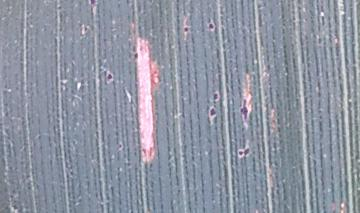tarspot: (238, 71, 253, 133), (235, 140, 254, 162), (180, 15, 192, 42), (205, 104, 219, 127), (204, 16, 219, 35), (102, 69, 117, 86), (79, 21, 91, 37), (211, 89, 223, 104), (130, 49, 141, 64), (66, 167, 77, 181), (87, 1, 99, 12)
